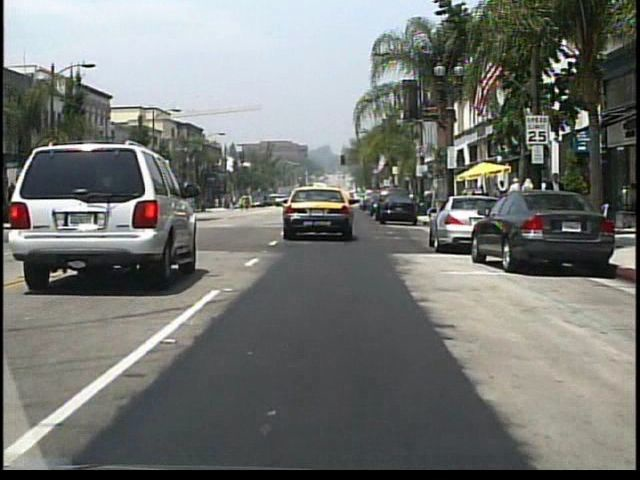person: (542, 169, 569, 236), (507, 175, 526, 215), (539, 175, 554, 217), (496, 179, 510, 217), (521, 179, 535, 214), (262, 192, 269, 207)
